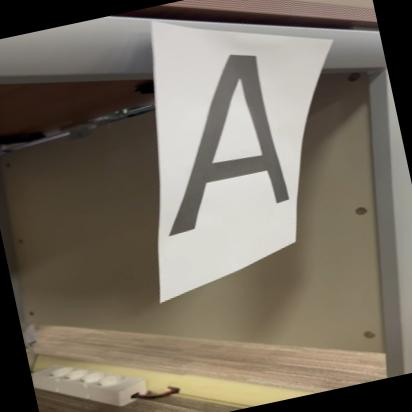seat: (141, 45, 300, 243)
